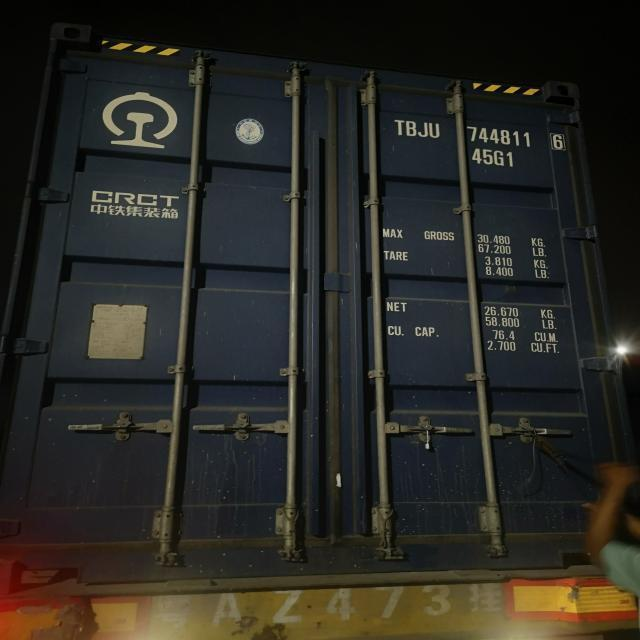ISO: (472, 150, 514, 168)
container_number: (387, 109, 570, 152)
